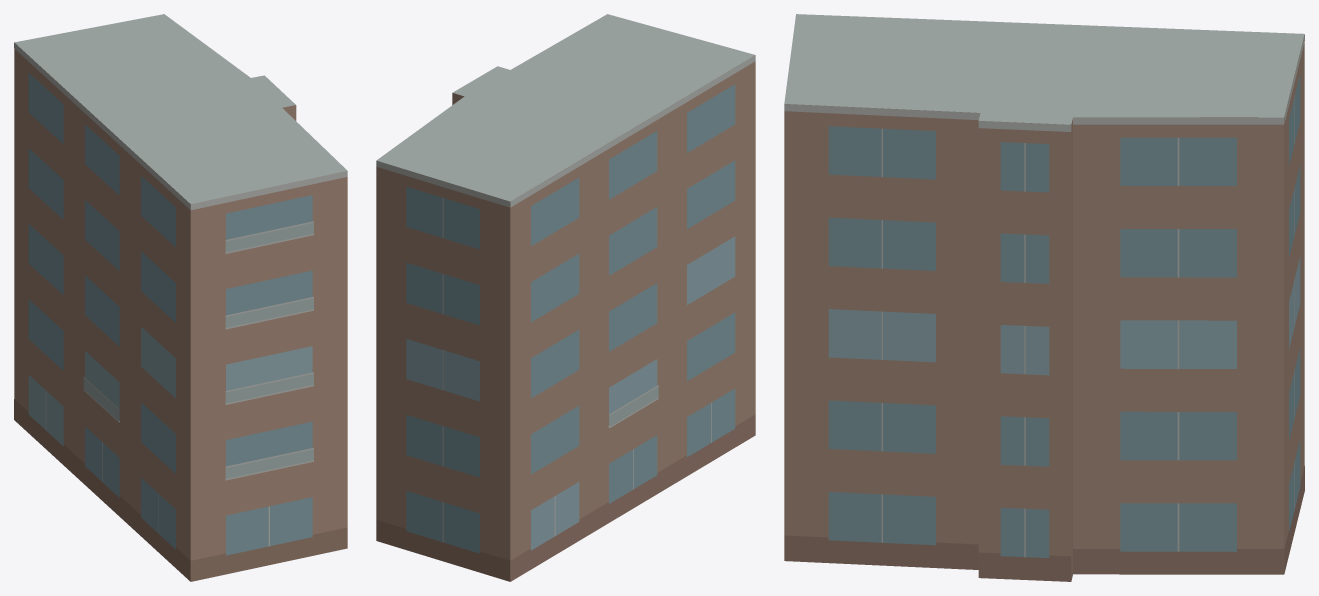
File: survey-upis-32643731.glb
The picture shows the model from 3 angles, left to right: view 1: azimuth 30°, elevation 25°; view 2: azimuth 150°, elevation 25°; view 3: azimuth 270°, elevation 25°; orthographic projection. The views are drawn at different scales.
Visible parts, largest first — view 1: survey-upis-32643731.tmp; view 2: survey-upis-32643731.tmp; view 3: survey-upis-32643731.tmp.
Boxes of the visible parts, <box> form: survey-upis-32643731.tmp: <box>14,14,347,581</box>; survey-upis-32643731.tmp: <box>376,14,755,581</box>; survey-upis-32643731.tmp: <box>784,14,1304,581</box>.
Size of the model in its own units: 7.93 by 15.25 by 15.75.
